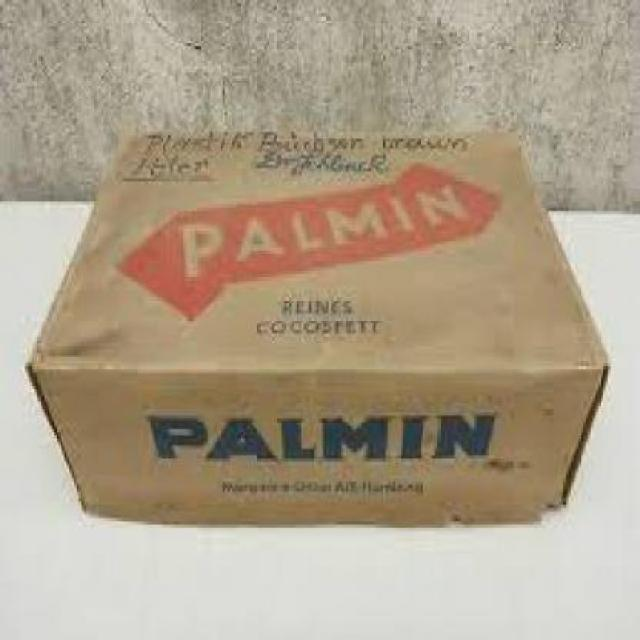box: (25, 121, 606, 524)
